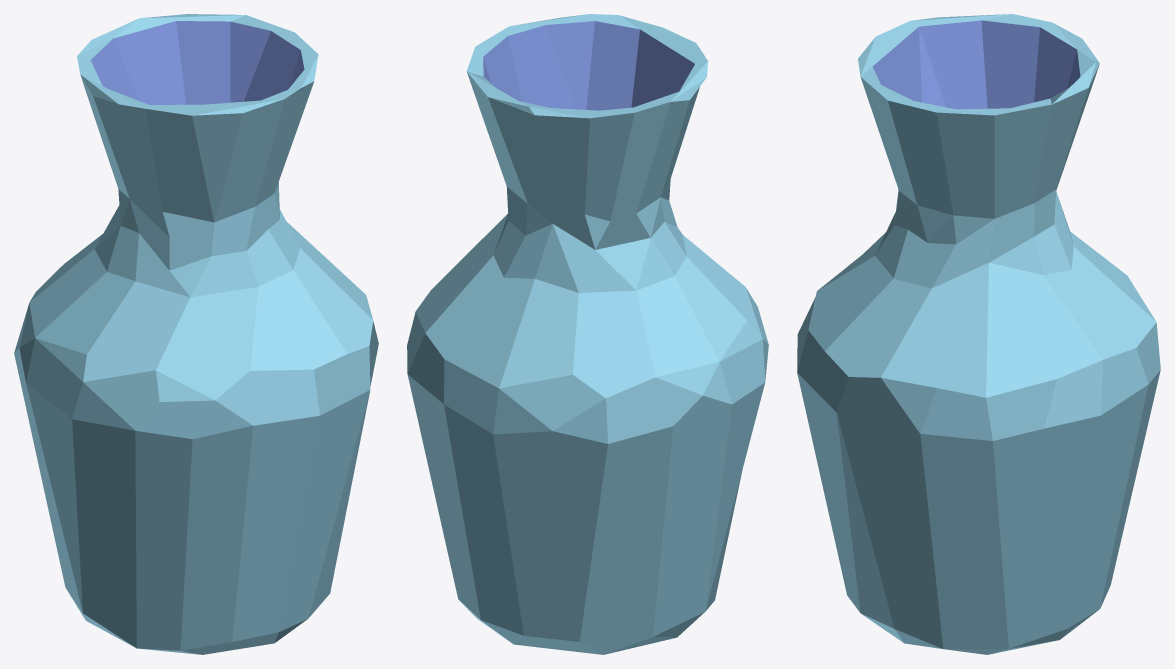
File: Vase02.fbx
3 views of the same model, side by side, from view 1: azimuth 30°, elevation 25°; view 2: azimuth 150°, elevation 25°; view 3: azimuth 270°, elevation 25° (orthographic).
Parts seen in each view (by area): view 1: Vase02LowPoly; view 2: Vase02LowPoly; view 3: Vase02LowPoly.
Part boxes in pixels (bbox=[...]): Vase02LowPoly: bbox=[14, 14, 378, 654]; Vase02LowPoly: bbox=[407, 14, 768, 654]; Vase02LowPoly: bbox=[797, 14, 1160, 654].
Bounding box in the file's own units: 7.45 × 12.32 × 7.43.
